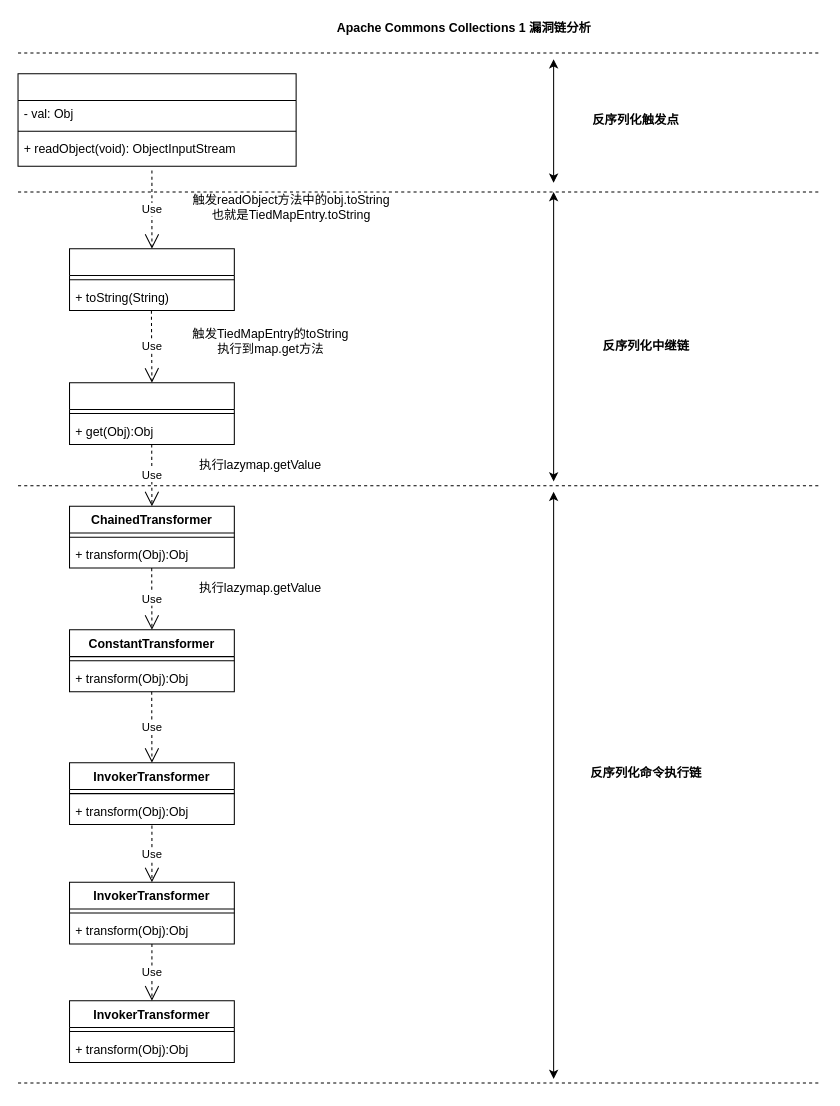
Some shapes in this 840 by 1106 pixel diagram are drawn without their labels. The box of each missing label's shape, as (x1, y1, x2, y2) in pixels:
BadAttributeValueExpException: (17, 73, 296, 166)
LazyMap: (68, 382, 234, 444)
TiedMapEntry: (68, 248, 234, 311)
